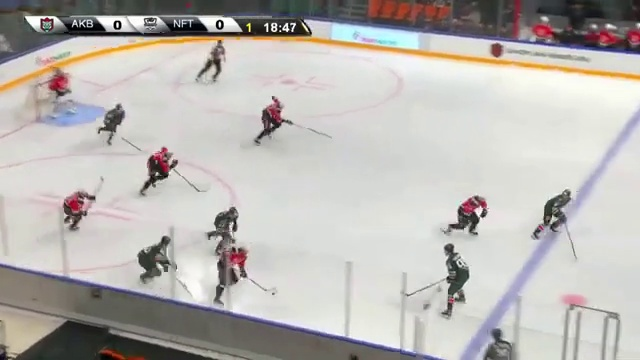gates: (440, 242, 485, 303), (131, 236, 174, 280), (211, 194, 247, 245), (94, 100, 131, 147), (533, 182, 571, 227)
referee: (33, 82, 74, 123)
team_1: (202, 38, 224, 84)
team_2: (56, 181, 100, 237), (206, 248, 247, 303), (38, 72, 83, 112), (450, 193, 492, 234), (142, 149, 176, 192), (255, 95, 285, 143)
